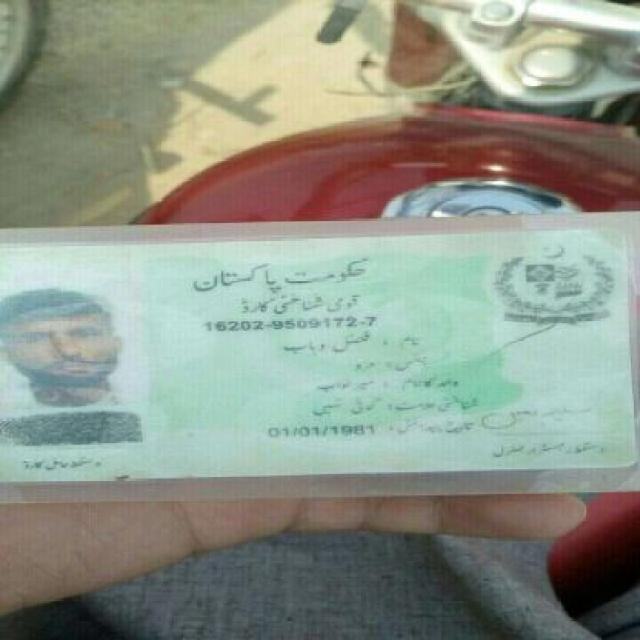Front: (8, 228, 630, 492)
